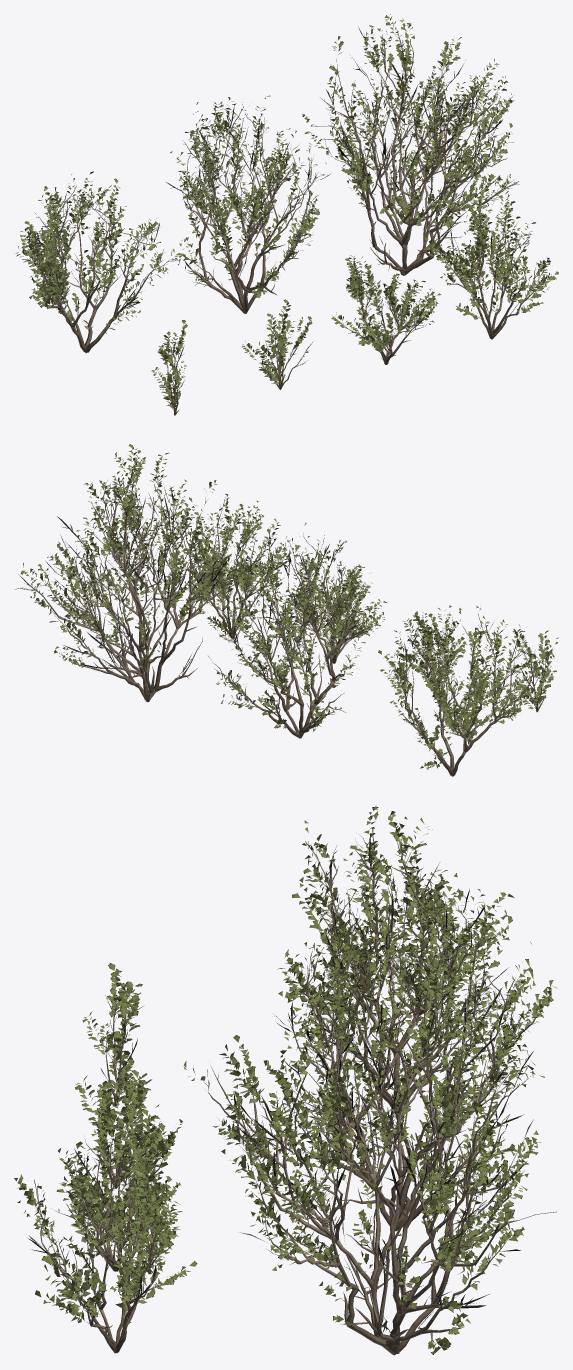
File: bush_dry.glb
3 views of the same model, one above another, from view 1: azimuth 30°, elevation 25°; view 2: azimuth 150°, elevation 25°; view 3: azimuth 270°, elevation 25° (orthographic). The views are drawn at different scales.
Parts seen in each view (by area): view 1: searsia_lucida_a_LOD0, searsia_lucida_b_LOD0, searsia_lucida_c_LOD0, searsia_lucida_d_LOD0, searsia_lucida_e_LOD0, searsia_lucida_f_LOD0, searsia_lucida_g_LOD0; view 2: searsia_lucida_a_LOD0, searsia_lucida_b_LOD0, searsia_lucida_c_LOD0, searsia_lucida_d_LOD0, searsia_lucida_e_LOD0, searsia_lucida_f_LOD0, searsia_lucida_g_LOD0; view 3: searsia_lucida_a_LOD0, searsia_lucida_b_LOD0, searsia_lucida_c_LOD0, searsia_lucida_d_LOD0, searsia_lucida_e_LOD0, searsia_lucida_g_LOD0, searsia_lucida_f_LOD0.
Part boxes in pixels (left/top/right/bottom): searsia_lucida_a_LOD0: left=302, top=14, right=519, bottom=275; searsia_lucida_b_LOD0: left=166, top=95, right=330, bottom=313; searsia_lucida_c_LOD0: left=14, top=171, right=190, bottom=353; searsia_lucida_d_LOD0: left=424, top=176, right=558, bottom=339; searsia_lucida_e_LOD0: left=331, top=255, right=440, bottom=364; searsia_lucida_f_LOD0: left=241, top=299, right=312, bottom=389; searsia_lucida_g_LOD0: left=151, top=320, right=187, bottom=415; searsia_lucida_a_LOD0: left=14, top=444, right=266, bottom=702; searsia_lucida_b_LOD0: left=207, top=522, right=374, bottom=738; searsia_lucida_c_LOD0: left=378, top=605, right=558, bottom=776; searsia_lucida_d_LOD0: left=174, top=493, right=295, bottom=638; searsia_lucida_e_LOD0: left=280, top=564, right=386, bottom=663; searsia_lucida_f_LOD0: left=402, top=611, right=466, bottom=686; searsia_lucida_g_LOD0: left=512, top=629, right=556, bottom=712; searsia_lucida_a_LOD0: left=184, top=950, right=556, bottom=1355; searsia_lucida_b_LOD0: left=274, top=876, right=557, bottom=1231; searsia_lucida_c_LOD0: left=278, top=806, right=514, bottom=1109; searsia_lucida_d_LOD0: left=14, top=1103, right=197, bottom=1353; searsia_lucida_e_LOD0: left=51, top=1066, right=182, bottom=1271; searsia_lucida_g_LOD0: left=82, top=963, right=144, bottom=1105; searsia_lucida_f_LOD0: left=75, top=1073, right=165, bottom=1188.
Bounding box in the file's own units: 4.76 × 2.32 × 2.83.
Materials: 3 (3 with a texture image).
